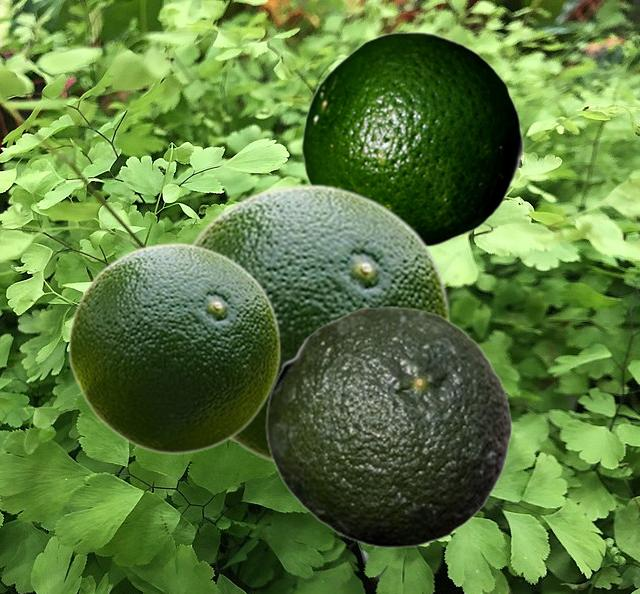calamansi: (188, 183, 451, 465), (265, 306, 512, 547), (301, 31, 523, 248), (67, 242, 281, 453)
